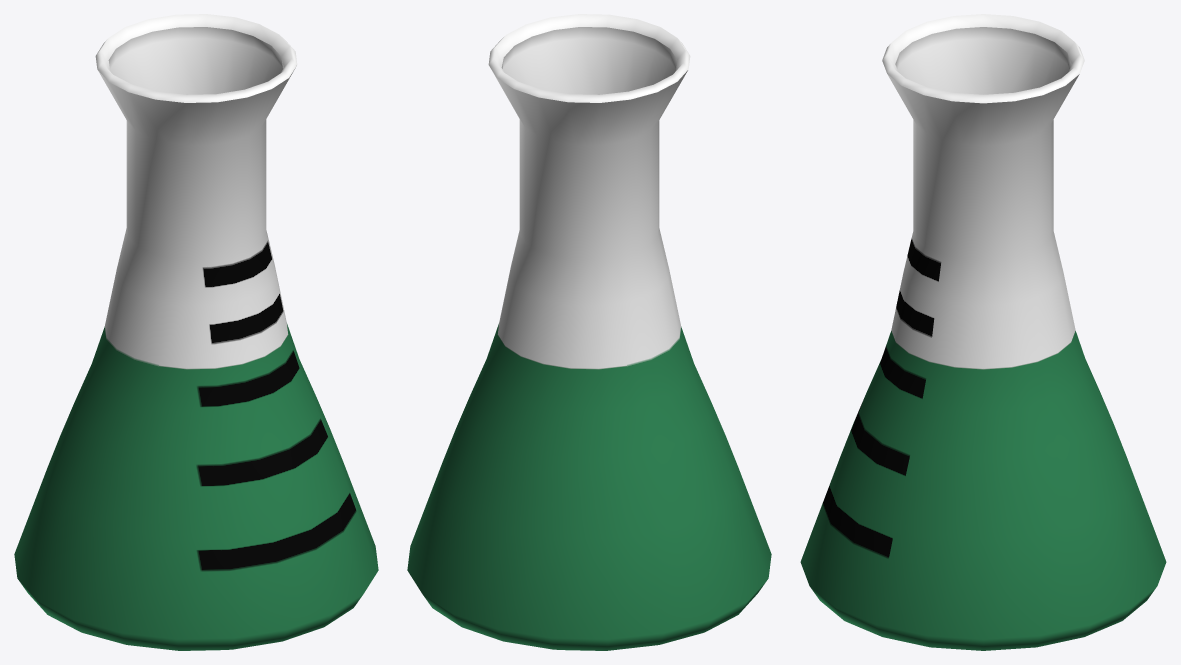
The model's file is flaskGreen.fbx.
3 views of the same model, side by side, from view 1: azimuth 30°, elevation 25°; view 2: azimuth 150°, elevation 25°; view 3: azimuth 270°, elevation 25° (orthographic).
Visible parts, largest first — view 1: pasted__pasted__polySurface2; view 2: pasted__pasted__polySurface2; view 3: pasted__pasted__polySurface2.
Boxes of the visible parts, x1,y1,x2,y2 form: pasted__pasted__polySurface2: (14,14,378,650); pasted__pasted__polySurface2: (407,14,771,650); pasted__pasted__polySurface2: (800,14,1166,650).
Bounding box in the file's own units: 0.6026 × 0.9845 × 0.6026.
Materials: 1 (1 with a texture image).
